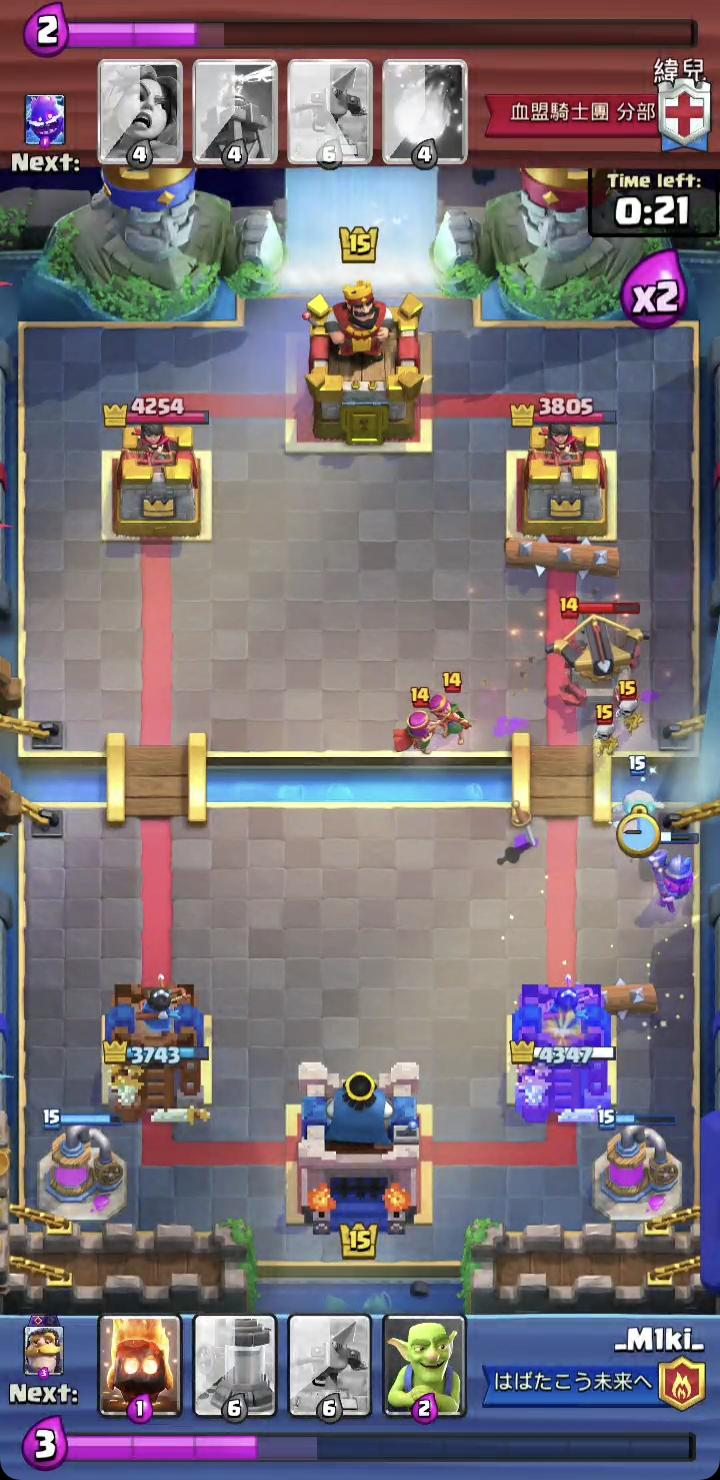ally_elixirpump: (591, 1106, 686, 1225), (35, 1108, 129, 1226)
ally_ice_spirit: (618, 752, 664, 826)
ally_musketeer: (635, 823, 698, 916)
enemy_archer: (392, 684, 441, 757), (431, 669, 475, 748)
enemy_skeleton: (614, 679, 645, 743), (592, 703, 622, 759)
enemy_xbow: (543, 596, 654, 709)
